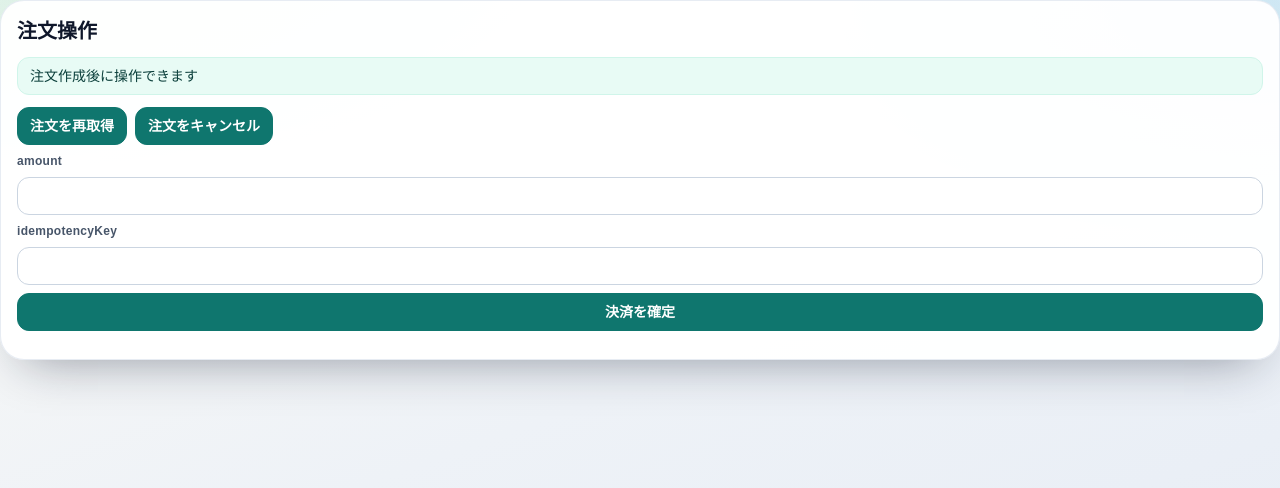
Test: OrderActionsPanel › 現在の注文IDがない場合は先に作成を促す
The width and height of the screenshot is (1280, 488).
Click the button "注文を再取得" at [72, 126], box [17,107,127,145]
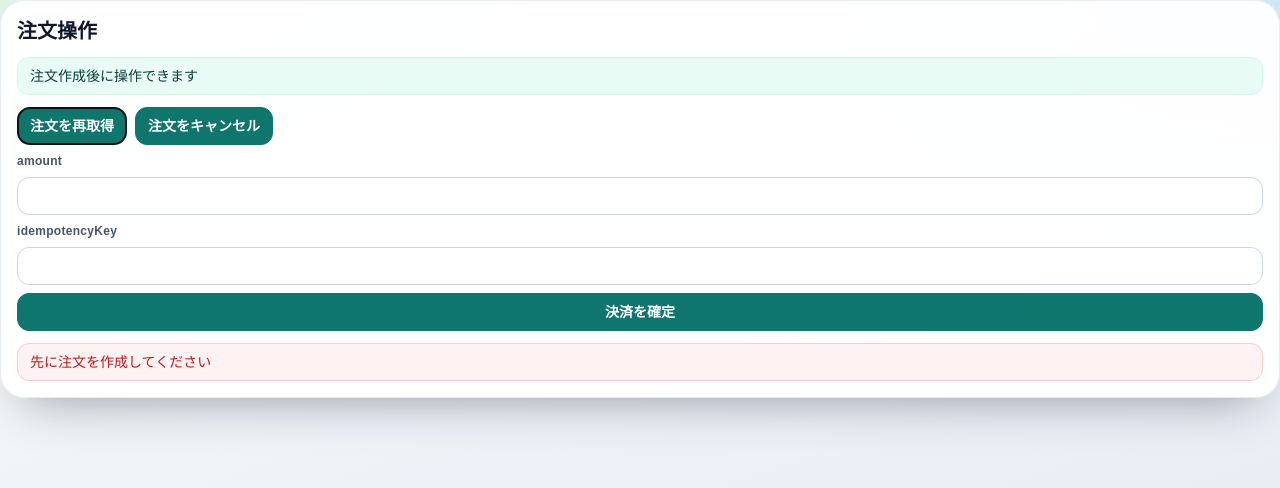
expect the text "先に注文を作成してください" is shown: met, box [17,343,1263,381]
